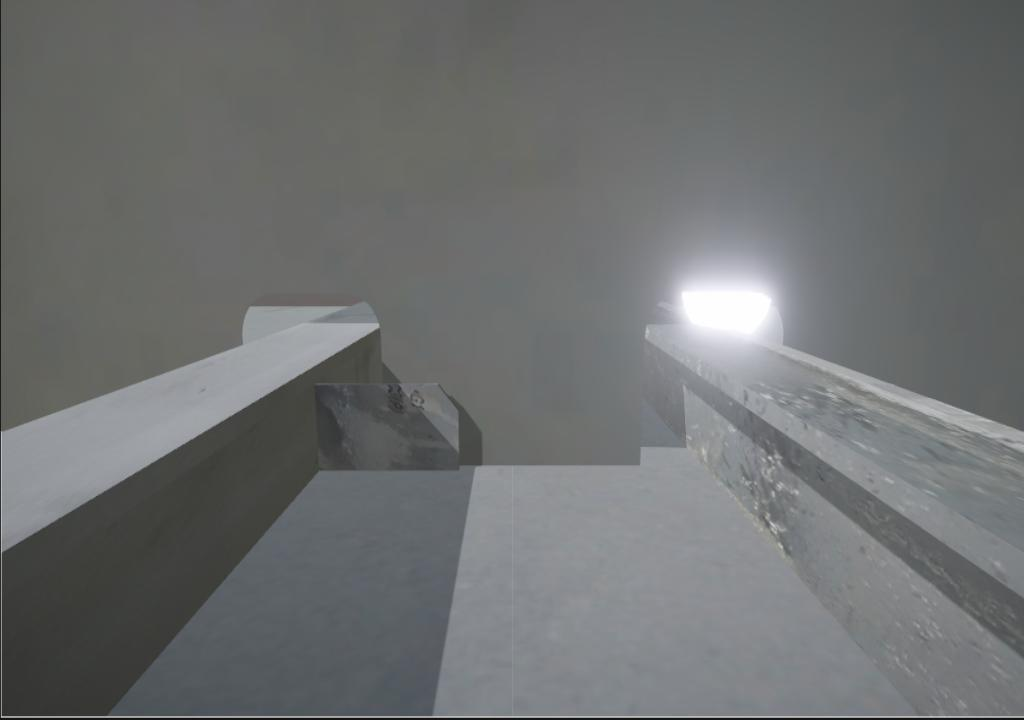fillet_yong_jeop_jang: (459, 452, 642, 478)
plate_CP03: (314, 383, 461, 470)
